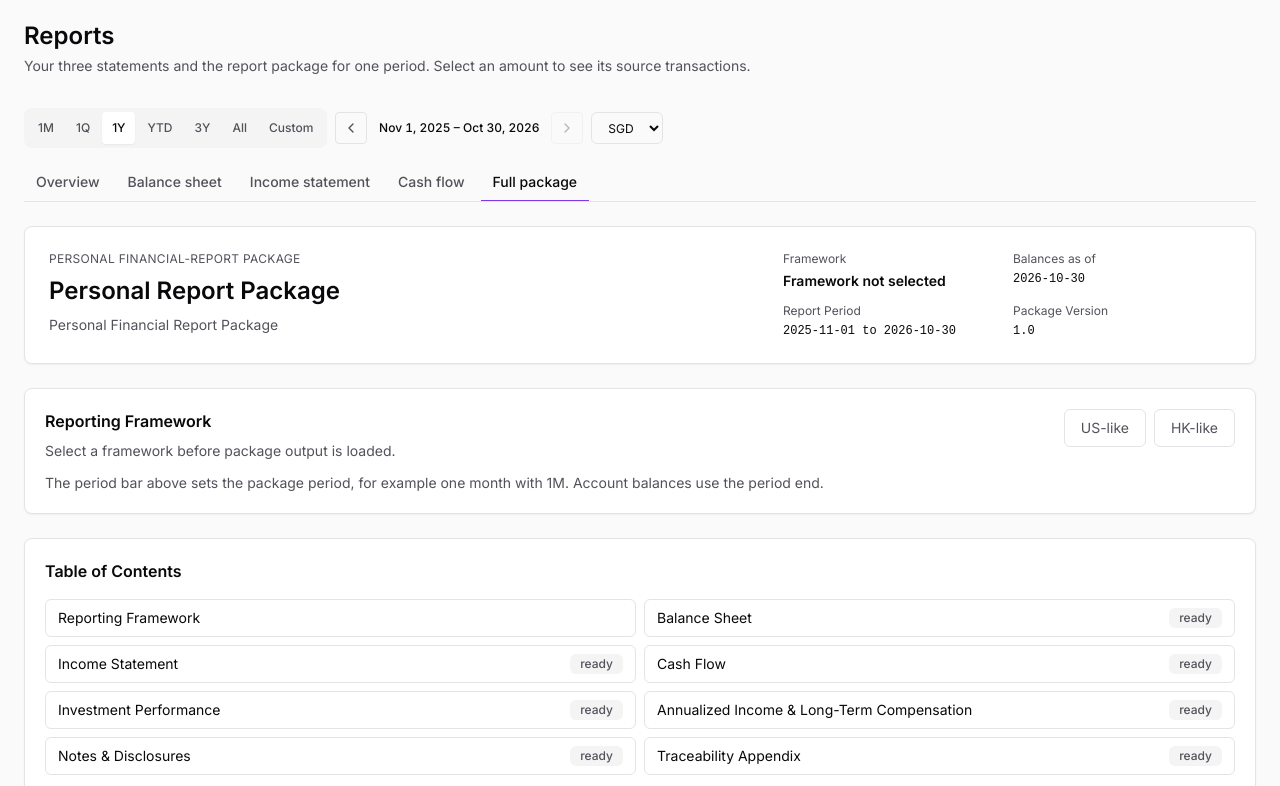
Test case: PersonalReportPackagePage › AC-reporting.package-document.3 renders a populated document and reopens the selected frozen snapshot
Click the button "US-like" at (1105, 428), box 1064,409 -> 1146,447
(page scrolled)
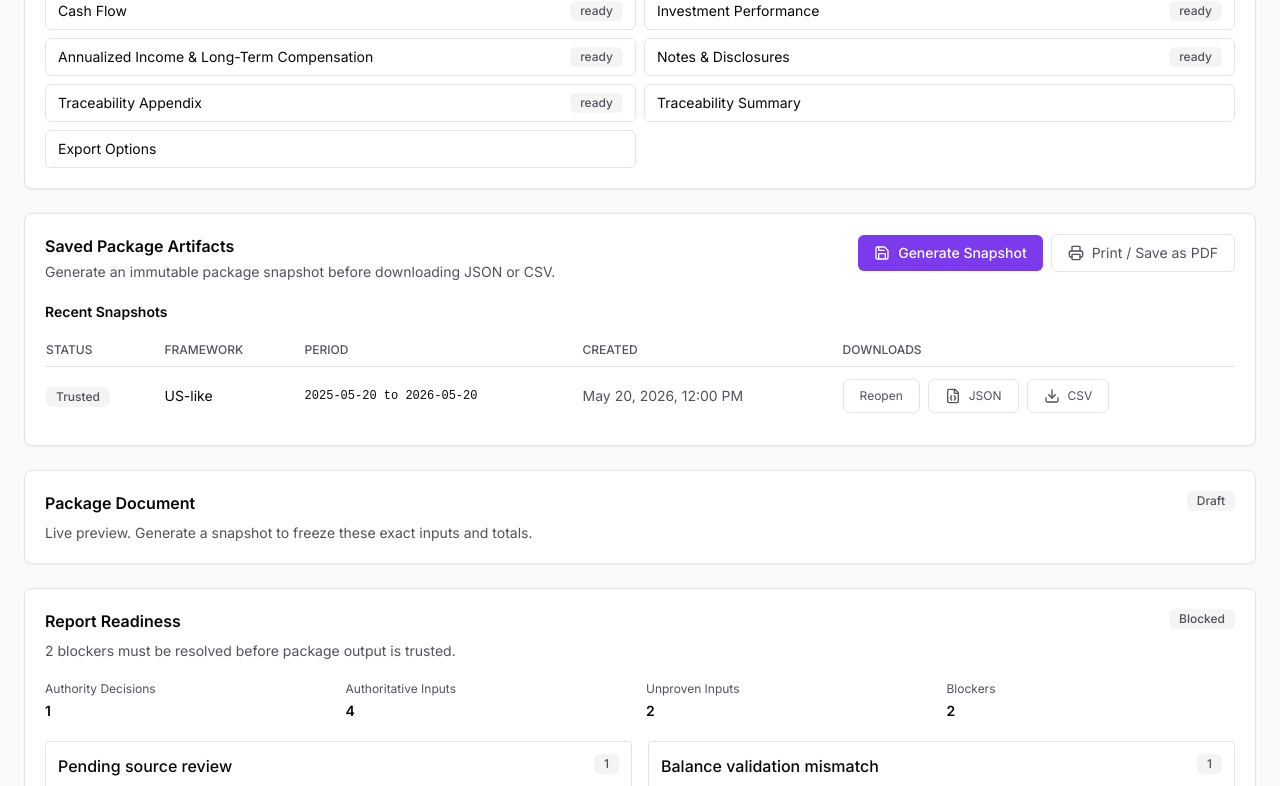
Now the text "Live preview. Generate a snapshot to freeze these exact inputs and totals." is shown, box 45,523 -> 532,543
Click the button "Reopen" at (881, 396), box 843,379 -> 920,413
(page scrolled)
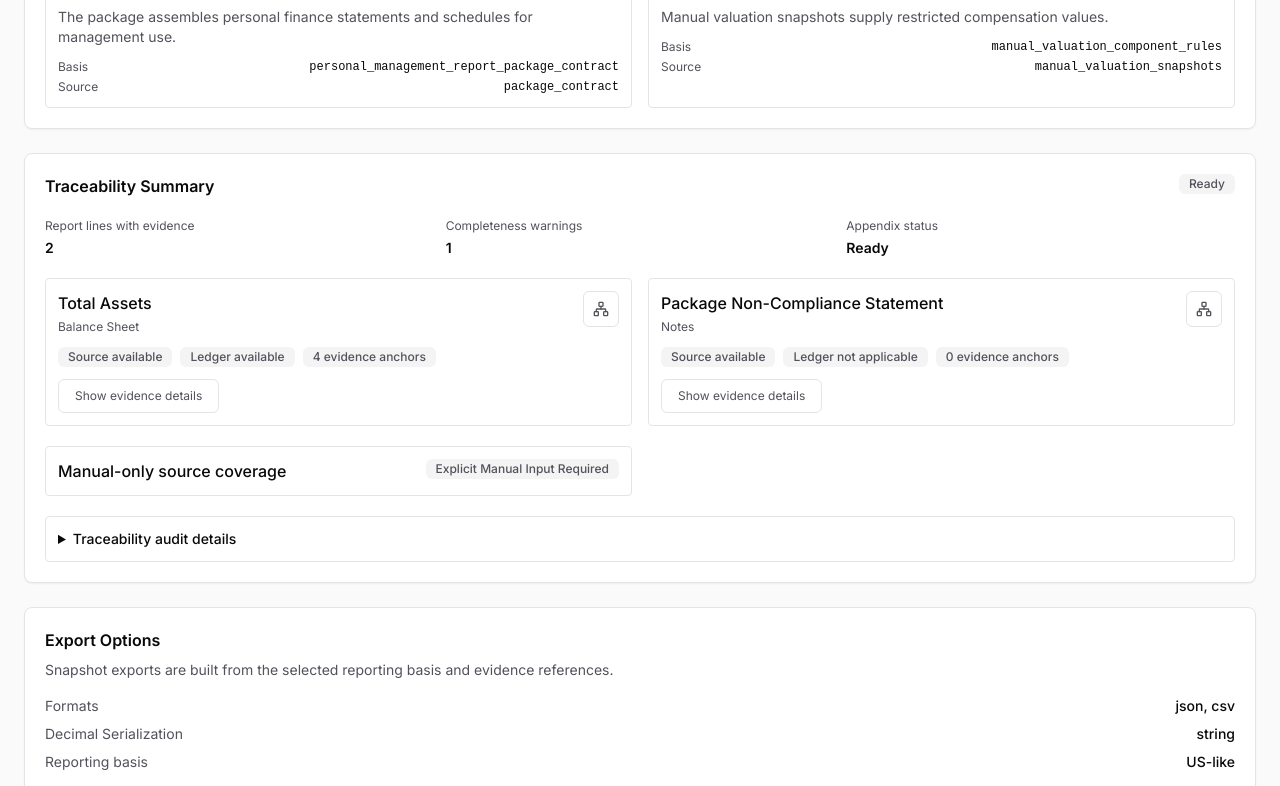
# A frozen snapshot stores every detail and manifest entry: the page reads them without a request.
Click the button with aria-label "Show evidence details for Total Assets" at (139, 396), box 58,379 -> 219,413
(page scrolled)
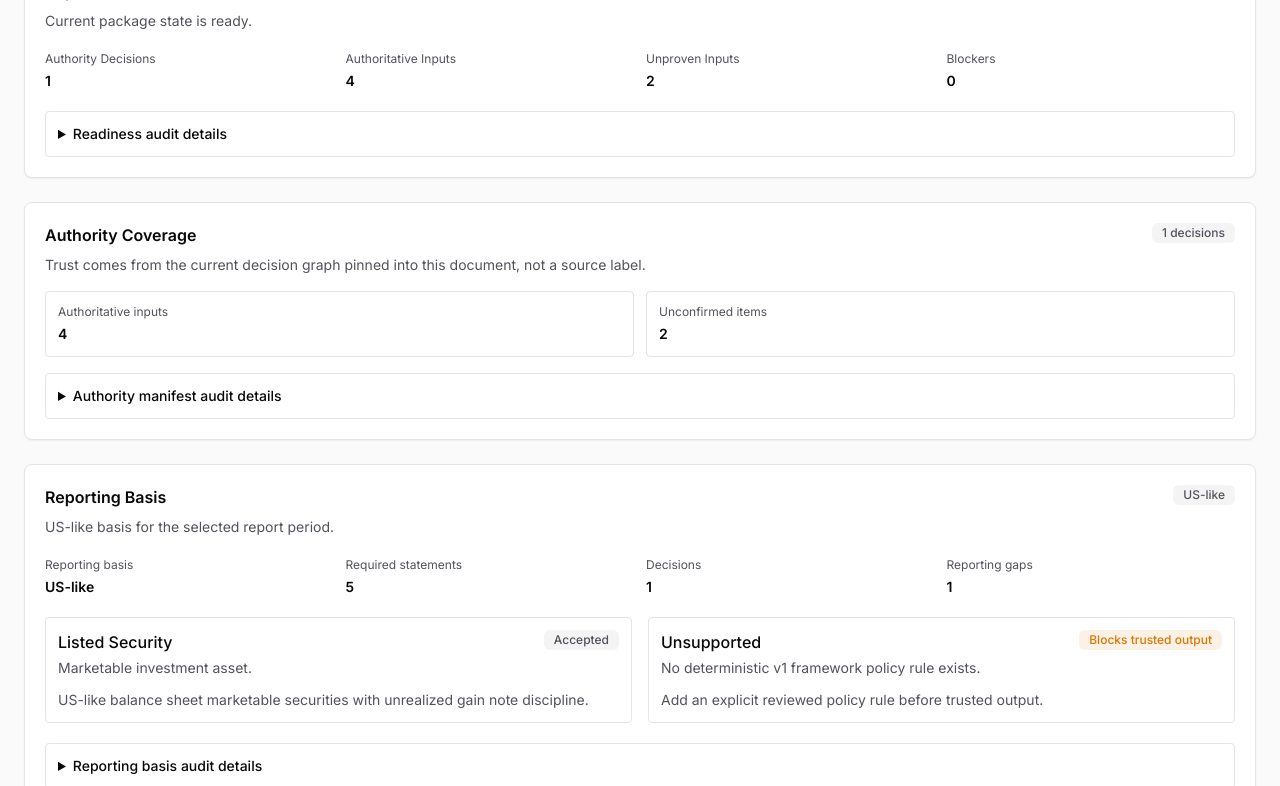
Click the heading "Authority manifest audit details" at (177, 396), box 73,387 -> 282,404
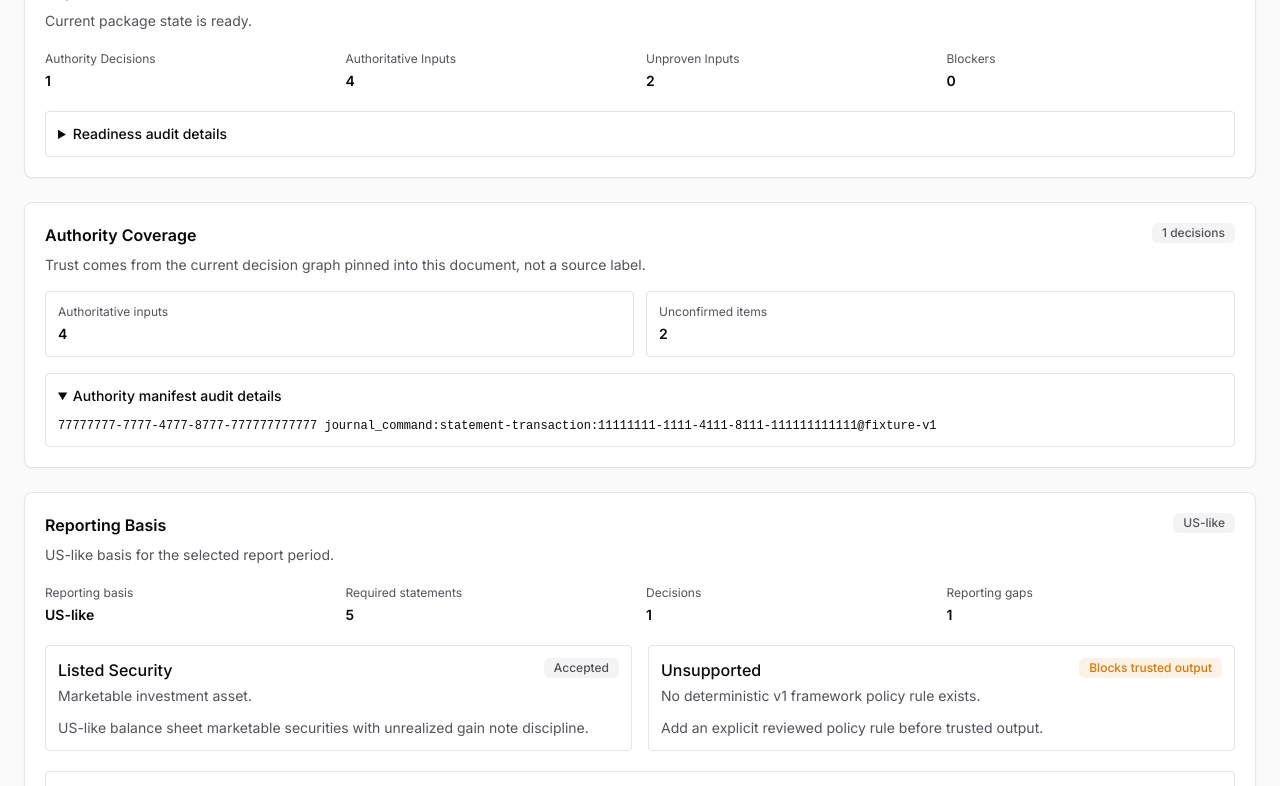
Now the text "77777777-7777-4777-8777-777777777777 journal_command" is shown, box 58,419 -> 937,433
